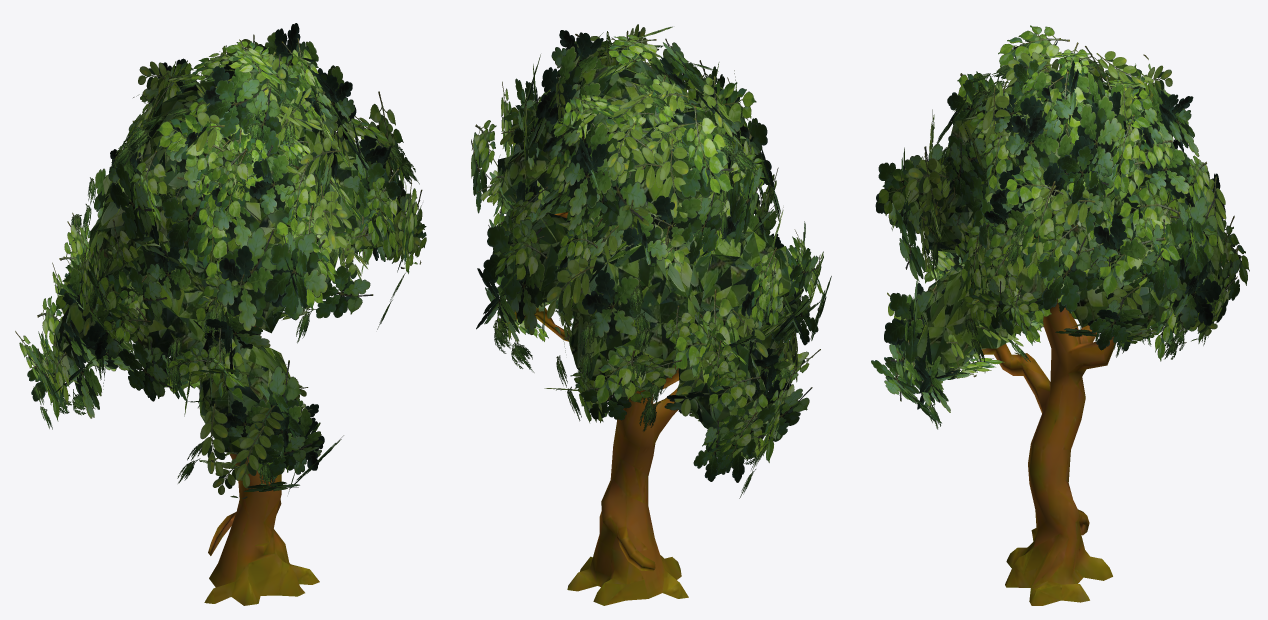
The model's file is oak_3.glb.
3 renders of one model, left to right at view 1: azimuth 30°, elevation 25°; view 2: azimuth 150°, elevation 25°; view 3: azimuth 270°, elevation 25°, orthographic. The views are drawn at different scales.
Visible parts, largest first — view 1: Fable_oak_3; view 2: Fable_oak_3; view 3: Fable_oak_3.
Part boxes in pixels (<box>): Fable_oak_3: <box>15,23,426,605</box>; Fable_oak_3: <box>471,24,831,605</box>; Fable_oak_3: <box>871,25,1249,605</box>.
Bounding box in the file's own units: 6.39 × 9.43 × 6.06.
2 materials, 2 textured.
